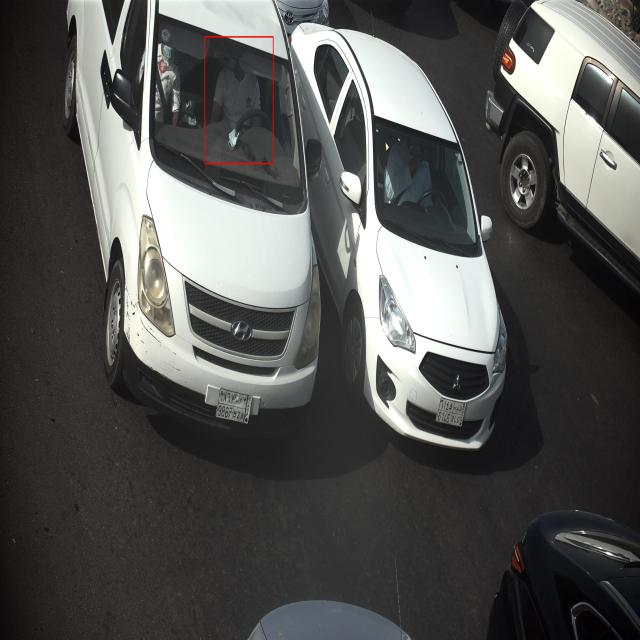windshield: (148, 5, 310, 218), (370, 115, 484, 257)
